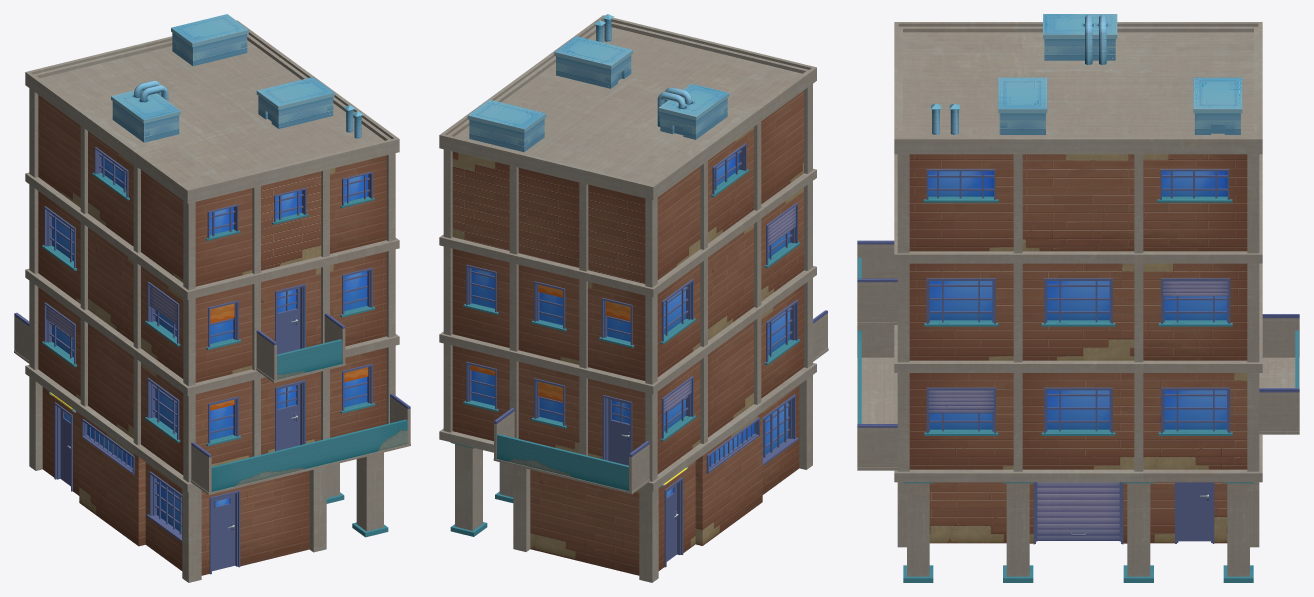
File: Building_07.fbx
3 renders of one model, left to right at view 1: azimuth 30°, elevation 25°; view 2: azimuth 150°, elevation 25°; view 3: azimuth 270°, elevation 25°, orthographic. The views are drawn at different scales.
Visible parts, largest first — view 1: polySurface281; view 2: polySurface281; view 3: polySurface281.
Boxes of the visible parts, x1,y1,x2,y2 form: polySurface281: (14, 14, 410, 582); polySurface281: (439, 14, 828, 582); polySurface281: (857, 14, 1299, 582).
Size of the model in its own units: 692 by 1318 by 1100.
